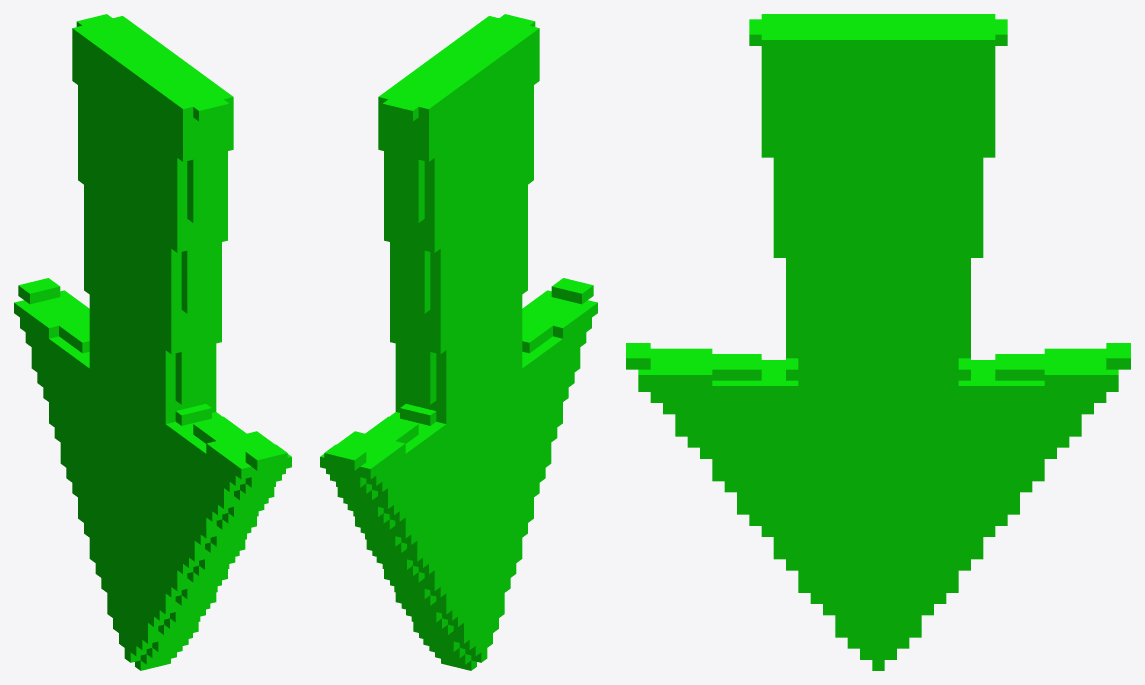
Rendered from 3D RightArrow.fbx.
3 views of the same model, side by side, from view 1: azimuth 30°, elevation 25°; view 2: azimuth 150°, elevation 25°; view 3: azimuth 270°, elevation 25° (orthographic). The views are drawn at different scales.
Parts seen in each view (by area): view 1: Arrow; view 2: Arrow; view 3: Arrow.
Boxes of the visible parts, x1,y1,x2,y2 form: Arrow: [14, 14, 291, 670]; Arrow: [320, 14, 597, 670]; Arrow: [626, 14, 1130, 670].
Bounding box in the file's own units: 26.12 × 298 × 214.
